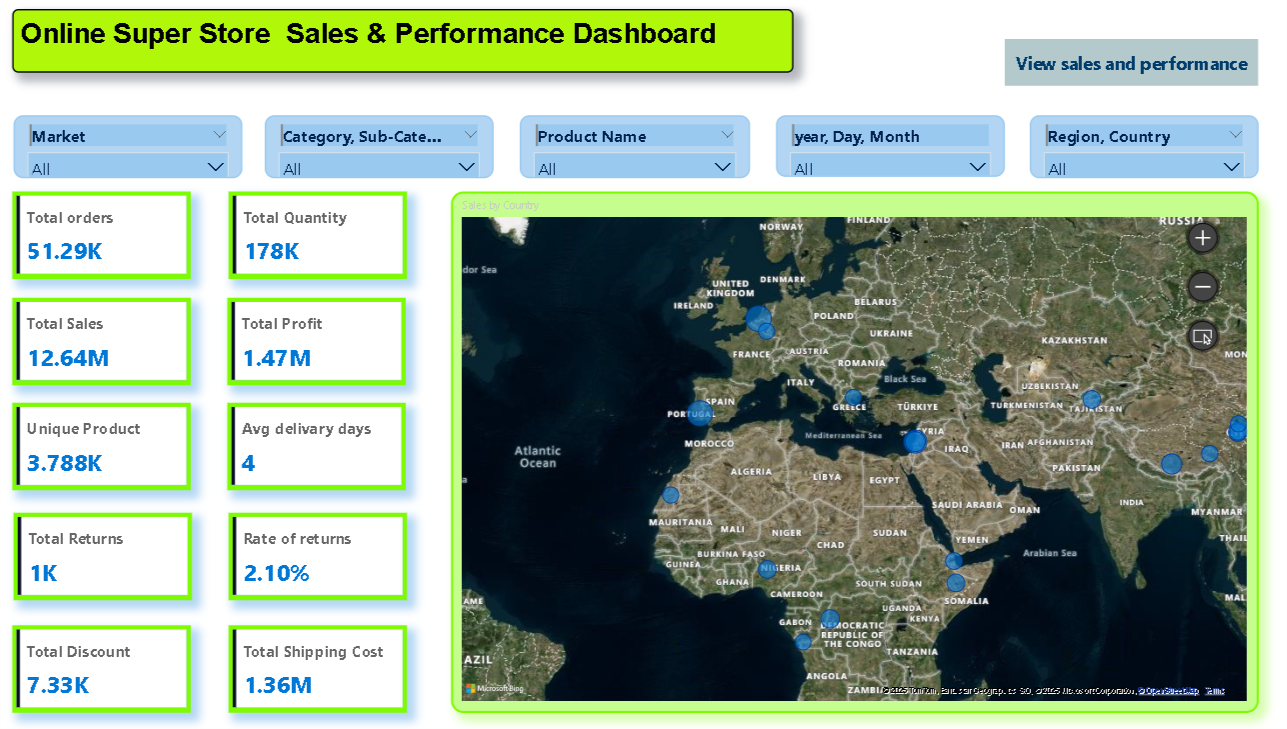

The dashboard page shown, as its layout file describes it:
{"tool":"powerbi","page":{"name":"Page 1_map","canvas":[1500,839],"ordinal":0},"visuals":[{"type":"textbox","box":[20,11.4,892.9,72.9],"z":0},{"type":"slicer","fields":{"Values":["Orders.Market"]},"box":[21.1,132.1,261.5,71.7],"z":1000},{"type":"slicer","fields":{"Values":["Orders.Region","Orders.Country"]},"box":[1182.3,132.1,261.5,71.7],"z":2000},{"type":"slicer","fields":{"Values":["calender.year","calender.Day","calender.MonthSort"]},"box":[892.7,132.1,261.5,70.3],"z":3000},{"type":"slicer","fields":{"Values":["Orders.Product Name"]},"box":[600.3,132.1,262.9,71.7],"z":4000},{"type":"slicer","fields":{"Values":["Orders.Category","Orders.Sub-Category"]},"box":[309.3,132.1,261.5,71.7],"z":5000},{"type":"cardVisual","fields":{"Data":["CountNonNull(Orders.Order ID)"]},"box":[19.3,220.3,204.2,99.7],"z":6000},{"type":"cardVisual","fields":{"Data":["Returns.Rate of returns"]},"box":[266.9,586.9,204.2,99.7],"z":7000},{"type":"cardVisual","fields":{"Data":["Returns.Total Reurns"]},"box":[20.9,586.9,204.2,99.7],"z":8000},{"type":"cardVisual","fields":{"Data":["Sum(Orders.Profit)"]},"box":[265.3,340.9,204.2,99.7],"z":9000},{"type":"cardVisual","fields":{"Data":["Sum(Orders.Sales)"]},"box":[19.3,340.9,204.2,99.7],"z":10000},{"type":"cardVisual","fields":{"Data":["Orders.avg delivary days"]},"box":[265.3,461.5,204.2,99.7],"z":11000},{"type":"cardVisual","fields":{"Data":["Sum(Orders.Quantity)"]},"box":[266.9,220.3,204.2,99.7],"z":12000},{"type":"cardVisual","fields":{"Data":["Count(Orders.Product ID)"]},"box":[19.3,461.5,204.2,99.7],"z":13000},{"type":"cardVisual","fields":{"Data":["Sum(Orders.Shipping Cost)"]},"box":[266.9,715.6,204.2,99.7],"z":14000},{"type":"cardVisual","fields":{"Data":["Sum(Orders.Discount)"]},"box":[19.3,715.6,204.2,99.7],"z":15000},{"type":"map","fields":{"Category":["Orders.Country","Orders.State","Orders.City"],"Size":["Sum(Orders.Sales)"]},"box":[521.4,220,922.9,595.7],"z":16000},{"type":"actionButton","box":[1154.2,46.4,289.6,53.4],"z":17000}]}

Visuals, with their boxes in screenshot pixels (x1, y1, x2, y2), scaled from the page's 1500x839 canvas onto the 1287x729 screenshot:
textbox: left=17, top=10, right=783, bottom=73
slicer - Orders.Market: left=18, top=115, right=242, bottom=177
slicer - Orders.Region x Orders.Country: left=1014, top=115, right=1239, bottom=177
slicer - calender.year x calender.Day: left=766, top=115, right=990, bottom=176
slicer - Orders.Product Name: left=515, top=115, right=741, bottom=177
slicer - Orders.Category x Orders.Sub-Category: left=265, top=115, right=490, bottom=177
cardVisual - CountNonNull(Orders.Order ID): left=17, top=191, right=192, bottom=278
cardVisual - Returns.Rate of returns: left=229, top=510, right=404, bottom=597
cardVisual - Returns.Total Reurns: left=18, top=510, right=193, bottom=597
cardVisual - Sum(Orders.Profit): left=228, top=296, right=403, bottom=383
cardVisual - Sum(Orders.Sales): left=17, top=296, right=192, bottom=383
cardVisual - Orders.avg delivary days: left=228, top=401, right=403, bottom=488
cardVisual - Sum(Orders.Quantity): left=229, top=191, right=404, bottom=278
cardVisual - Count(Orders.Product ID): left=17, top=401, right=192, bottom=488
cardVisual - Sum(Orders.Shipping Cost): left=229, top=622, right=404, bottom=708
cardVisual - Sum(Orders.Discount): left=17, top=622, right=192, bottom=708
map - Orders.Country x Orders.State: left=447, top=191, right=1239, bottom=709
actionButton: left=990, top=40, right=1239, bottom=87
